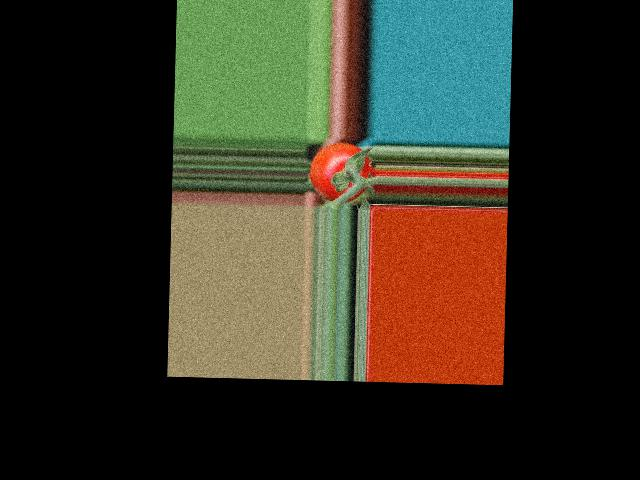tomato: (309, 141, 375, 203)
